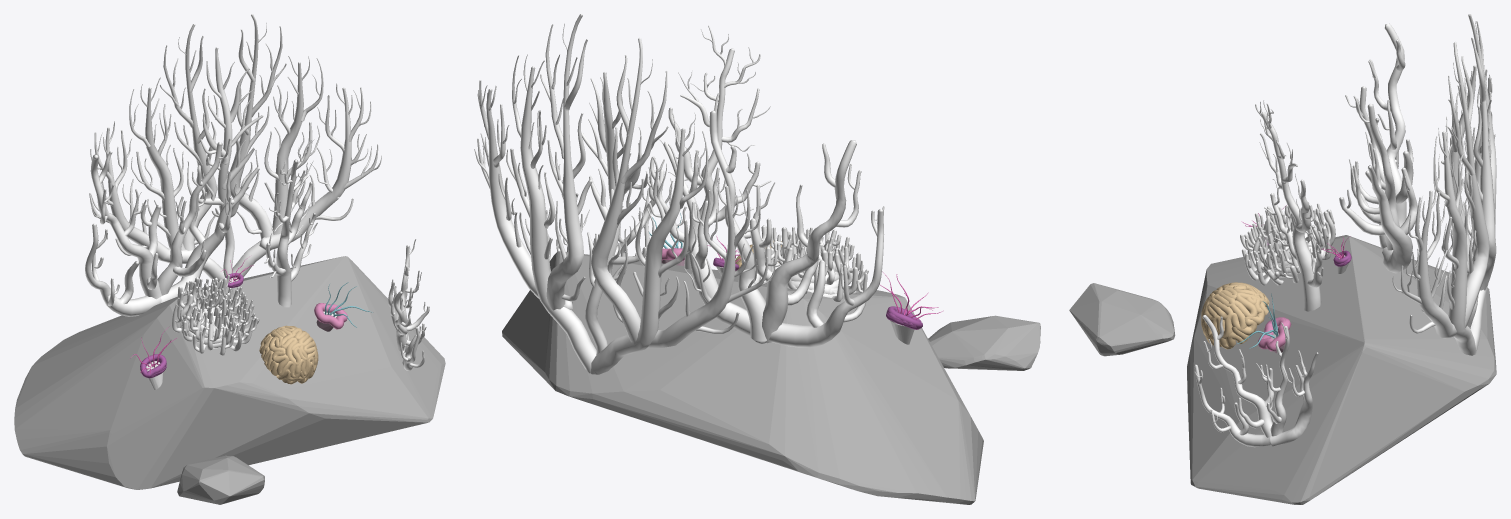
The model's file is corals.fbx.
3 renders of one model, left to right at view 1: azimuth 30°, elevation 25°; view 2: azimuth 150°, elevation 25°; view 3: azimuth 270°, elevation 25°, orthographic. The views are drawn at different scales.
Parts seen in each view (by area): view 1: brush_MatteHull_g0_b0_0, brush_Icing_g6_b0_19, brush_Icing_g1_b0_7, brush_Icing_g4_b0_13, brush_Icing_g0_b0_4, brush_Icing_g2_b0_9, brush_Icing_g3_b0_11, brush_Icing_g5_b0_16; view 2: brush_MatteHull_g0_b0_0, brush_Icing_g6_b0_19, brush_Icing_g1_b0_7, brush_Icing_g2_b0_9, brush_Icing_g4_b0_13, brush_Icing_g3_b0_11, brush_Icing_g5_b0_16; view 3: brush_MatteHull_g0_b0_0, brush_Icing_g6_b0_19, brush_Icing_g1_b0_7, brush_Icing_g3_b0_11, brush_Icing_g2_b0_9, brush_Icing_g4_b0_13, brush_Icing_g0_b0_4.
Part boxes in pixels (x1,y1,x2,y2): brush_MatteHull_g0_b0_0: [14, 256, 445, 504]; brush_Icing_g6_b0_19: [89, 14, 381, 281]; brush_Icing_g1_b0_7: [85, 138, 259, 316]; brush_Icing_g4_b0_13: [172, 275, 259, 355]; brush_Icing_g0_b0_4: [259, 282, 372, 384]; brush_Icing_g2_b0_9: [264, 139, 317, 307]; brush_Icing_g3_b0_11: [388, 239, 429, 370]; brush_Icing_g5_b0_16: [130, 327, 176, 378]; brush_MatteHull_g0_b0_0: [502, 251, 1040, 504]; brush_Icing_g6_b0_19: [474, 14, 775, 374]; brush_Icing_g1_b0_7: [663, 93, 884, 347]; brush_Icing_g2_b0_9: [646, 25, 771, 269]; brush_Icing_g4_b0_13: [760, 226, 868, 301]; brush_Icing_g3_b0_11: [546, 164, 664, 260]; brush_Icing_g5_b0_16: [880, 271, 943, 329]; brush_MatteHull_g0_b0_0: [1069, 235, 1496, 504]; brush_Icing_g6_b0_19: [1392, 14, 1496, 355]; brush_Icing_g1_b0_7: [1339, 23, 1417, 273]; brush_Icing_g3_b0_11: [1194, 315, 1318, 447]; brush_Icing_g2_b0_9: [1255, 100, 1323, 311]; brush_Icing_g4_b0_13: [1240, 202, 1335, 285]; brush_Icing_g0_b0_4: [1201, 282, 1291, 351].
Bounding box in the file's own units: 82.96 × 70.7 × 65.59.
